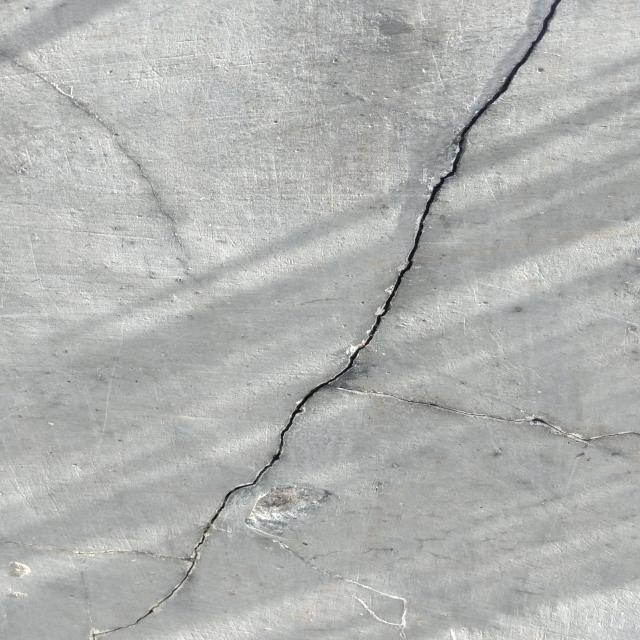Crack: (97, 4, 562, 640)
